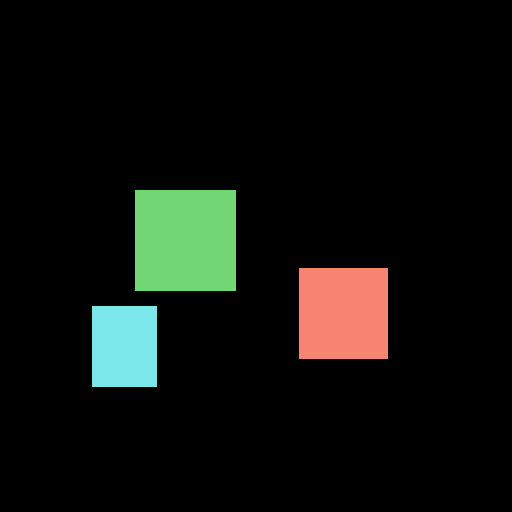rectangle: (92, 306, 156, 386)
square: (135, 190, 235, 290), (299, 268, 387, 358)
